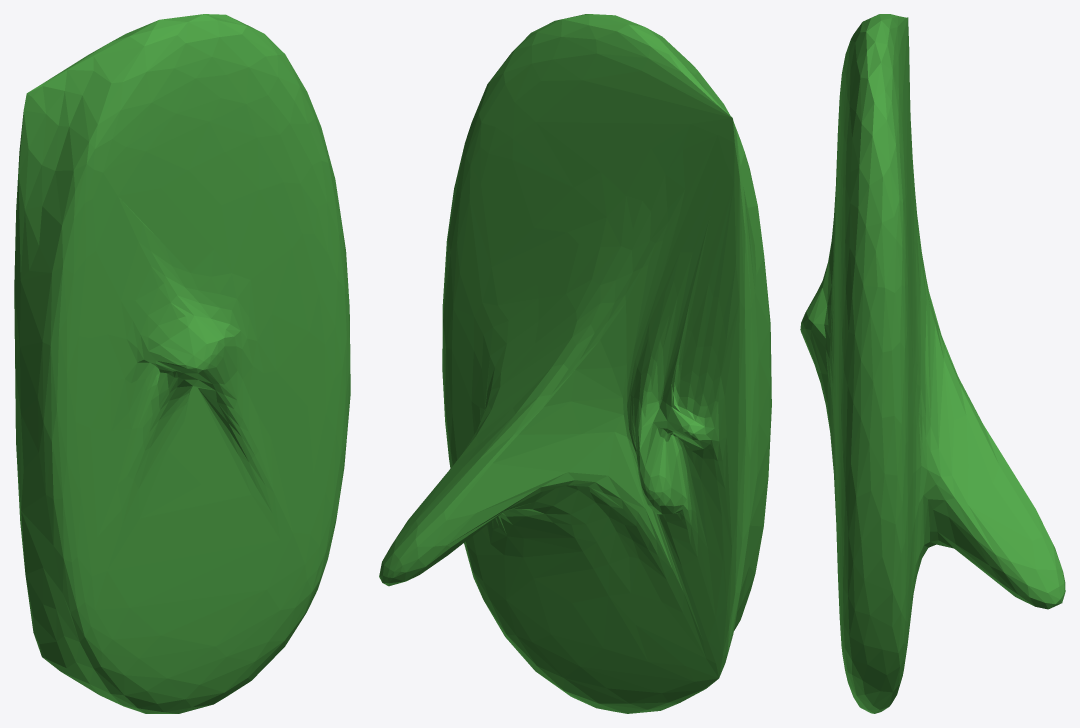
Rendered from 000_BKUP.obj.
3 renders of one model, left to right at view 1: azimuth 30°, elevation 25°; view 2: azimuth 150°, elevation 25°; view 3: azimuth 270°, elevation 25°, orthographic. The views are drawn at different scales.
Visible parts, largest first — view 1: 000_Cube.012; view 2: 000_Cube.012; view 3: 000_Cube.012.
Part boxes in pixels (box(x1,y1,x2,y2)): 000_Cube.012: box(14, 14, 350, 713); 000_Cube.012: box(379, 14, 771, 713); 000_Cube.012: box(800, 14, 1065, 713).
Bounding box in the file's own units: 5.14 × 10.74 × 3.85.
